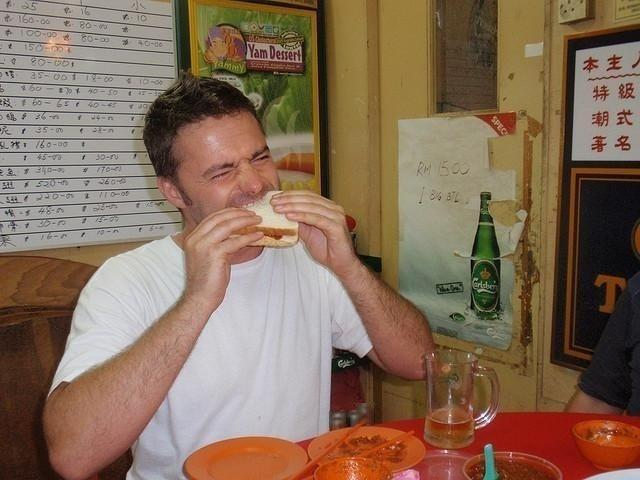bottle-glass: (469, 193, 501, 318)
glass-mug: (422, 349, 501, 449)
